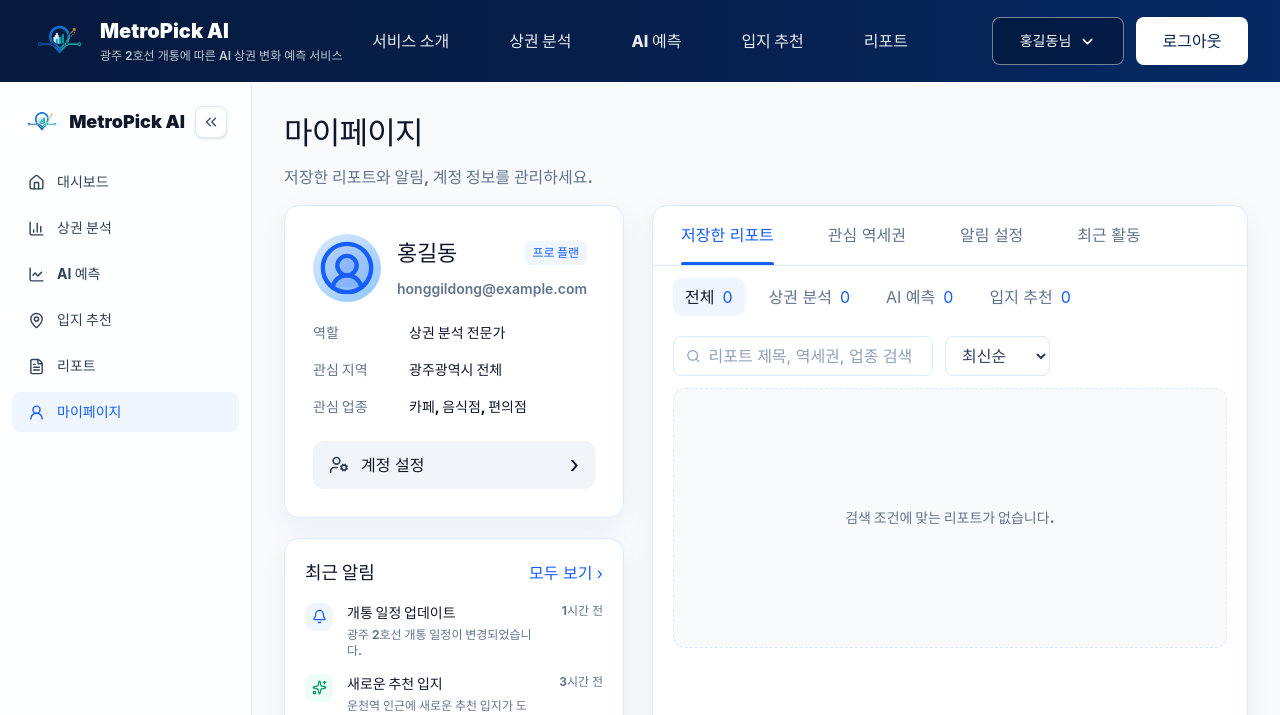
MyPage › shows interest locations from the tab panel
The image size is (1280, 715).
Click the tab "관심 역세권". click: [867, 235]
box: [828,205,906,265]
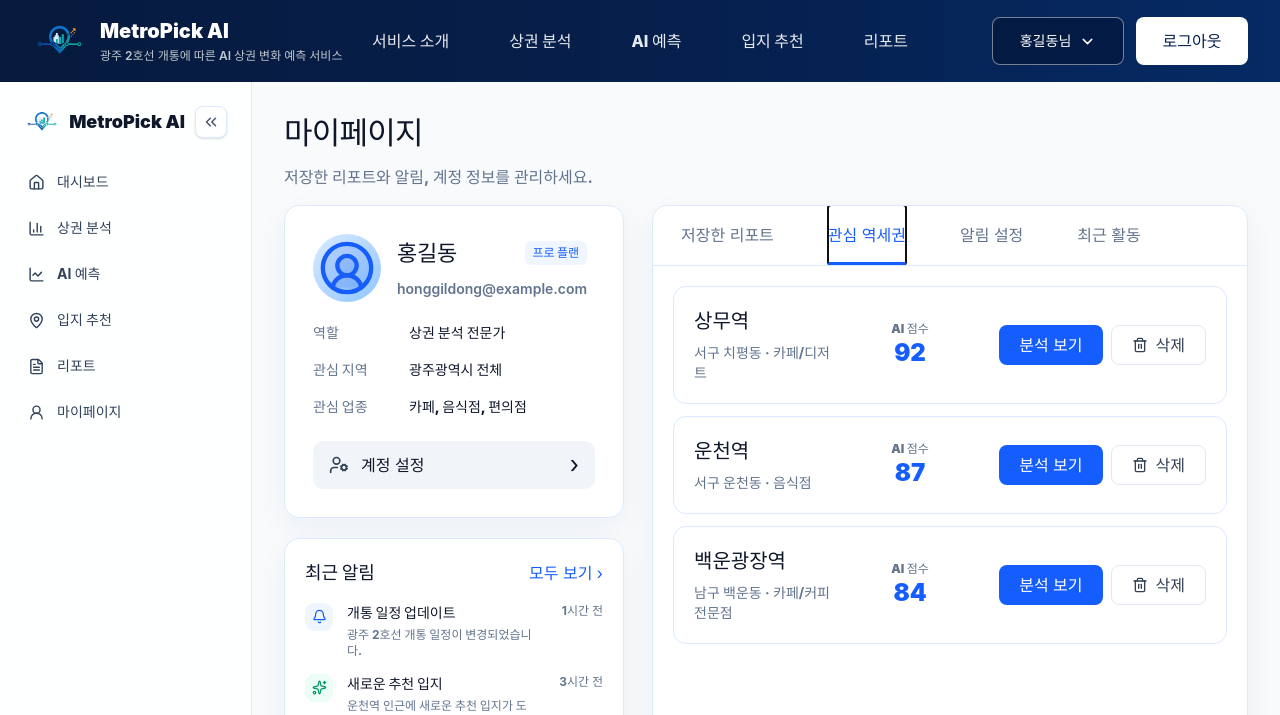
expect the heading "백운광장역" is shown: met, box [694,548,786,572]
expect the text "남구 백운동 · 카페/커피전문점" is shown: met, box [694,582,834,622]
